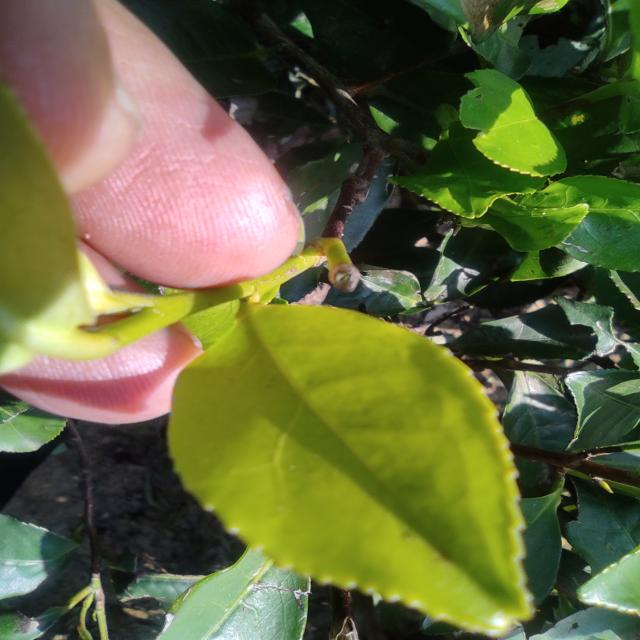Category C 4-7 days: (142, 264, 547, 635)
